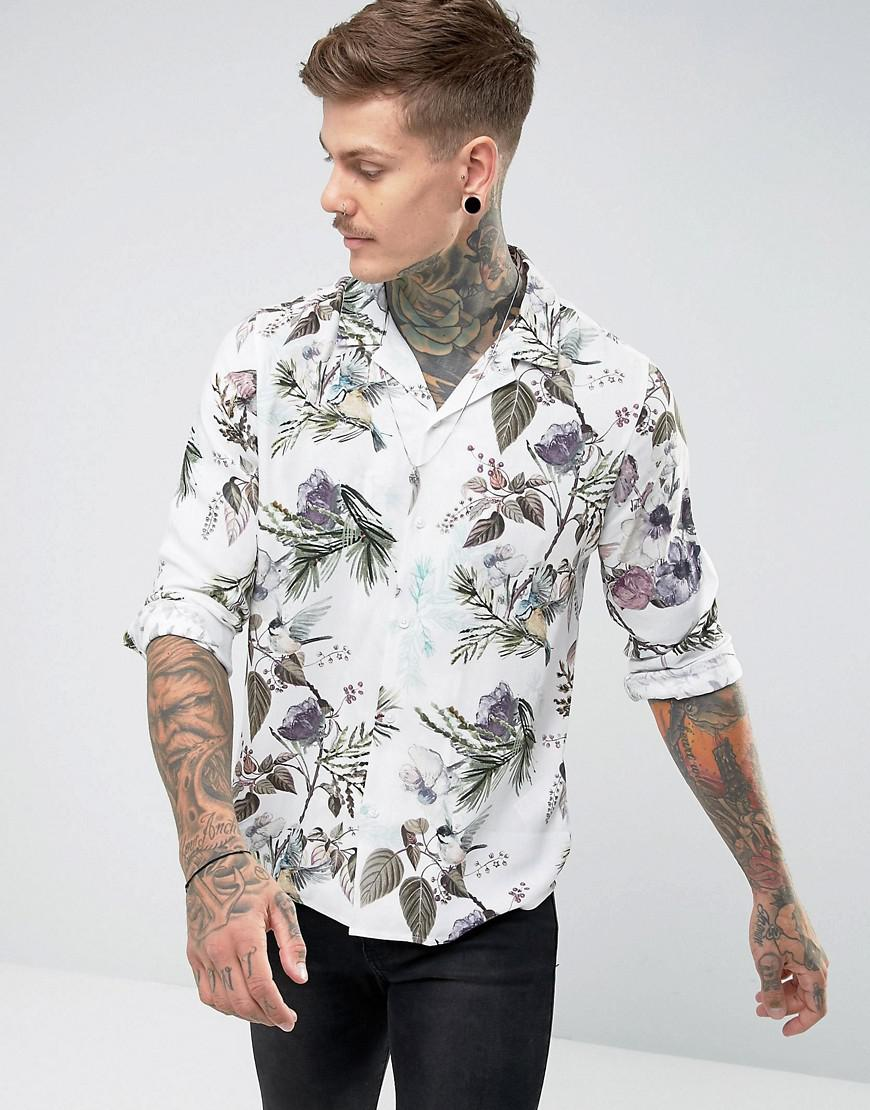teeshirt: (112, 257, 739, 966)
